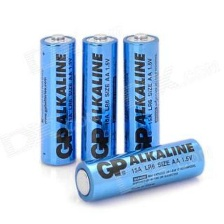battery: (71, 136, 206, 206), (122, 30, 163, 166), (37, 32, 77, 169), (79, 30, 118, 167)
